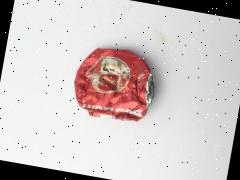metal: (37, 14, 180, 148)
